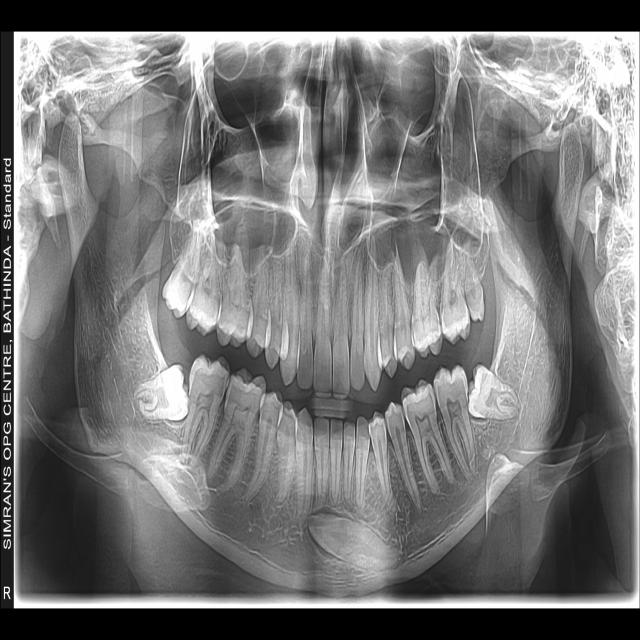Mandibular Canal: (426, 311, 546, 530)
impacted tooth: (309, 513, 398, 572), (135, 364, 189, 421), (469, 364, 520, 420)
